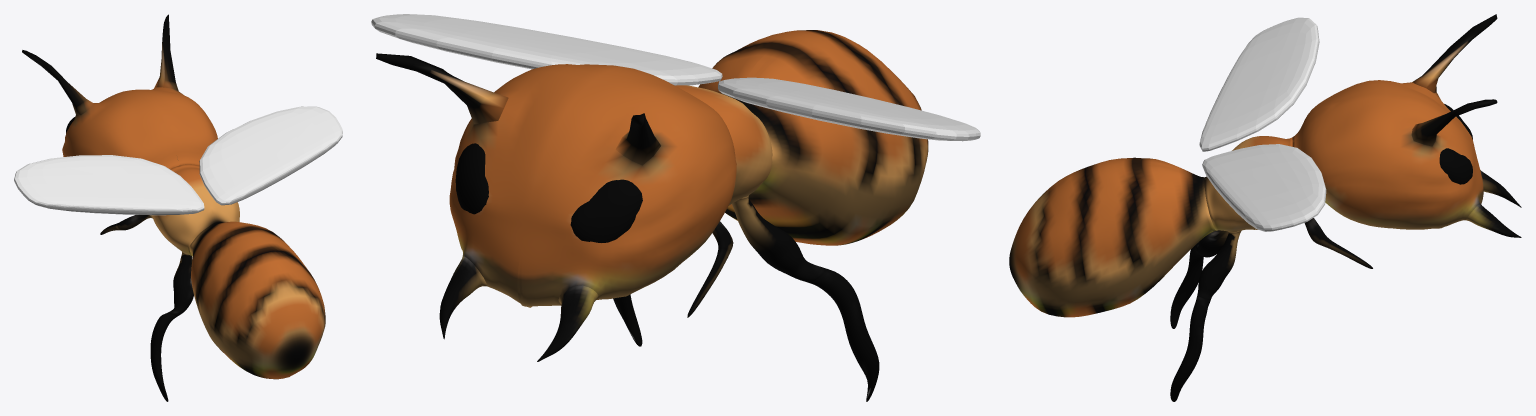
File: Bee_Broken.fbx
The picture shows the model from 3 angles, left to right: view 1: azimuth 30°, elevation 25°; view 2: azimuth 150°, elevation 25°; view 3: azimuth 270°, elevation 25°; orthographic projection. The views are drawn at different scales.
Visible parts, largest first — view 1: Body.006, Wing Left, Body.005, Wing Right, Body.008, Body.011, Body.013, Body.001, Body.002, Body.009; view 2: Body.005, Body.006, Wing Right, Wing Left, Body.008, Eyes.001, Body.011, Body.013, Body.002, Eyes, Body.004, Body.003 (+3 smaller); view 3: Body.006, Body.005, Wing Left, Wing Right, Body.008, Body.014, Body.012, Body.001, Body.002, Body.013, Eyes, Body.003 (+2 smaller).
Boxes of the visible parts, <box> form: Body.006: <box>189,221,325,379</box>; Wing Left: <box>14,155,204,215</box>; Body.005: <box>62,87,217,169</box>; Wing Right: <box>199,106,342,205</box>; Body.008: <box>151,164,239,255</box>; Body.011: <box>167,252,193,316</box>; Body.013: <box>150,313,176,401</box>; Body.001: <box>22,50,94,115</box>; Body.002: <box>154,14,178,90</box>; Body.009: <box>117,215,151,230</box>; Body.005: <box>449,64,736,307</box>; Body.006: <box>698,30,928,245</box>; Wing Right: <box>371,14,722,85</box>; Wing Left: <box>718,77,980,141</box>; Body.008: <box>675,85,772,205</box>; Eyes.001: <box>570,179,642,242</box>; Body.011: <box>732,196,825,282</box>; Body.013: <box>809,268,879,401</box>; Body.002: <box>376,53,508,124</box>; Eyes: <box>455,143,488,214</box>; Body.004: <box>537,285,598,361</box>; Body.003: <box>439,256,487,339</box>; Body.006: <box>1009,157,1215,317</box>; Body.005: <box>1292,80,1483,229</box>; Wing Left: <box>1199,17,1319,151</box>; Wing Right: <box>1202,144,1326,231</box>; Body.008: <box>1204,136,1292,232</box>; Body.014: <box>1170,296,1210,401</box>; Body.012: <box>1197,230,1241,300</box>; Body.001: <box>1412,14,1497,93</box>; Body.002: <box>1411,99,1497,146</box>; Body.013: <box>1170,242,1203,328</box>; Eyes: <box>1439,148,1472,184</box>; Body.003: <box>1466,204,1521,237</box>.
Bounding box in the file's own units: 1.84 × 1.4 × 2.11.
